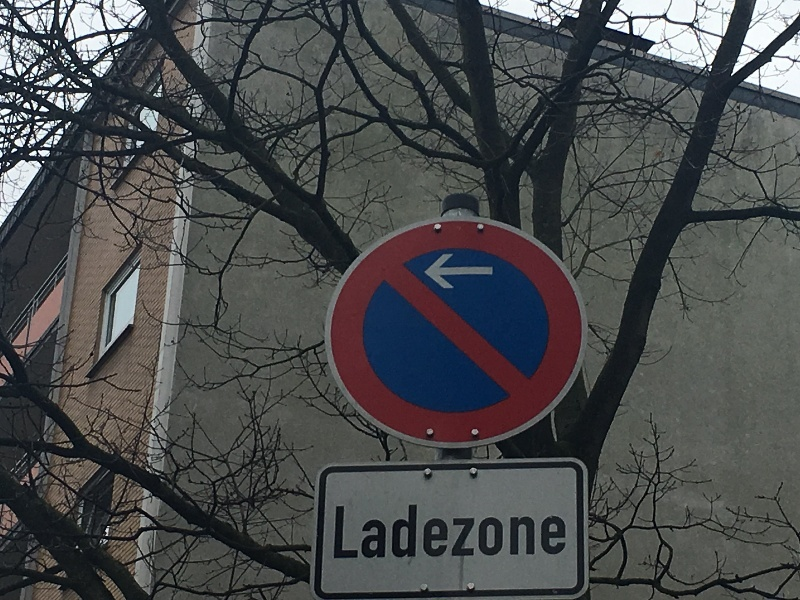text: (337, 498, 352, 559), (353, 498, 368, 559), (369, 498, 384, 559), (385, 498, 400, 559), (401, 498, 416, 559), (417, 498, 432, 559), (433, 498, 448, 559), (449, 498, 464, 559), (465, 498, 480, 559), (481, 498, 496, 559), (497, 498, 512, 559), (513, 498, 528, 559), (529, 498, 544, 559), (545, 498, 560, 559), (561, 498, 569, 559), (335, 498, 336, 559)
